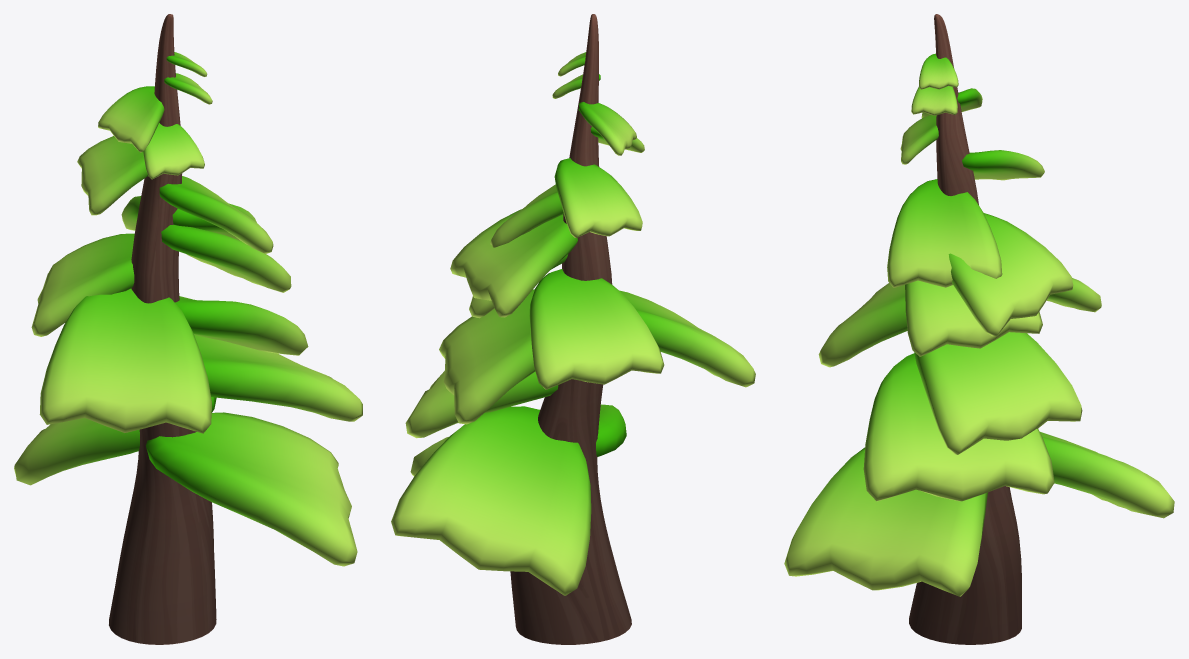
Rendered from arbol_pequeno_2.fbx.
3 views of the same model, side by side, from view 1: azimuth 30°, elevation 25°; view 2: azimuth 150°, elevation 25°; view 3: azimuth 270°, elevation 25° (orthographic). The views are drawn at different scales.
Visible parts, largest first — view 1: Arbol2_2, Arbol2_2|Hoja1.001|Dupli|11, Arbol2_2|Hoja1.001|Dupli|12, Arbol2_2|Hoja1.001|Dupli|7, Arbol2_2|Hoja1.001|Dupli|5, Arbol2_2|Hoja1.001|Dupli|13, Arbol2_2|Hoja1.001|Dupli|3, Arbol2_2|Hoja1.001|Dupli|4, Arbol2_2|Hoja1.001|Dupli|10, Arbol2_2|Hoja1.001|Dupli|8, Arbol2_2|Hoja1.001|Dupli|, Arbol2_2|Hoja1.001|Dupli|6 (+2 smaller); view 2: Arbol2_2|Hoja1.001|Dupli|13, Arbol2_2, Arbol2_2|Hoja1.001|Dupli|5, Arbol2_2|Hoja1.001|Dupli|3, Arbol2_2|Hoja1.001|Dupli|9, Arbol2_2|Hoja1.001|Dupli|10, Arbol2_2|Hoja1.001|Dupli|11, Arbol2_2|Hoja1.001|Dupli|7, Arbol2_2|Hoja1.001|Dupli|8, Arbol2_2|Hoja1.001|Dupli|12, Arbol2_2|Hoja1.001|Dupli|; view 3: Arbol2_2|Hoja1.001|Dupli|12, Arbol2_2|Hoja1.001|Dupli|7, Arbol2_2|Hoja1.001|Dupli|3, Arbol2_2, Arbol2_2|Hoja1.001|Dupli|8, Arbol2_2|Hoja1.001|Dupli|9, Arbol2_2|Hoja1.001|Dupli|13, Arbol2_2|Hoja1.001|Dupli|4, Arbol2_2|Hoja1.001|Dupli|11, Arbol2_2|Hoja1.001|Dupli|10, Arbol2_2|Hoja1.001|Dupli|6, Arbol2_2|Hoja1.001|Dupli|1 (+2 smaller).
Boxes of the visible parts, x1,y1,x2,y2 form: Arbol2_2: (109,14,216,644); Arbol2_2|Hoja1.001|Dupli|11: (39,288,211,433); Arbol2_2|Hoja1.001|Dupli|12: (146,412,357,566); Arbol2_2|Hoja1.001|Dupli|7: (194,334,362,421); Arbol2_2|Hoja1.001|Dupli|5: (31,233,134,336); Arbol2_2|Hoja1.001|Dupli|13: (14,397,216,485); Arbol2_2|Hoja1.001|Dupli|3: (175,296,308,355); Arbol2_2|Hoja1.001|Dupli|4: (161,225,291,292); Arbol2_2|Hoja1.001|Dupli|10: (77,136,147,215); Arbol2_2|Hoja1.001|Dupli|8: (159,176,273,253); Arbol2_2|Hoja1.001|Dupli|: (98,86,164,152); Arbol2_2|Hoja1.001|Dupli|6: (143,123,204,179); Arbol2_2|Hoja1.001|Dupli|13: (391,406,591,595); Arbol2_2: (510,14,631,644); Arbol2_2|Hoja1.001|Dupli|5: (529,269,664,389); Arbol2_2|Hoja1.001|Dupli|3: (439,289,535,424); Arbol2_2|Hoja1.001|Dupli|9: (450,209,577,317); Arbol2_2|Hoja1.001|Dupli|10: (554,158,642,237); Arbol2_2|Hoja1.001|Dupli|11: (619,290,755,387); Arbol2_2|Hoja1.001|Dupli|7: (405,371,558,438); Arbol2_2|Hoja1.001|Dupli|8: (490,184,563,247); Arbol2_2|Hoja1.001|Dupli|12: (410,404,626,476); Arbol2_2|Hoja1.001|Dupli|: (578,102,636,155); Arbol2_2|Hoja1.001|Dupli|12: (784,447,987,596); Arbol2_2|Hoja1.001|Dupli|7: (863,353,1054,501); Arbol2_2|Hoja1.001|Dupli|3: (914,332,1082,454); Arbol2_2: (909,14,1021,644); Arbol2_2|Hoja1.001|Dupli|8: (887,179,1002,287); Arbol2_2|Hoja1.001|Dupli|9: (948,213,1073,336); Arbol2_2|Hoja1.001|Dupli|13: (1040,432,1174,518); Arbol2_2|Hoja1.001|Dupli|4: (905,280,1042,356); Arbol2_2|Hoja1.001|Dupli|11: (818,283,907,367); Arbol2_2|Hoja1.001|Dupli|10: (962,150,1044,180); Arbol2_2|Hoja1.001|Dupli|6: (900,115,938,164); Arbol2_2|Hoja1.001|Dupli|1: (911,86,957,115).
Bounding box in the file's own units: 366 × 667 × 390.
